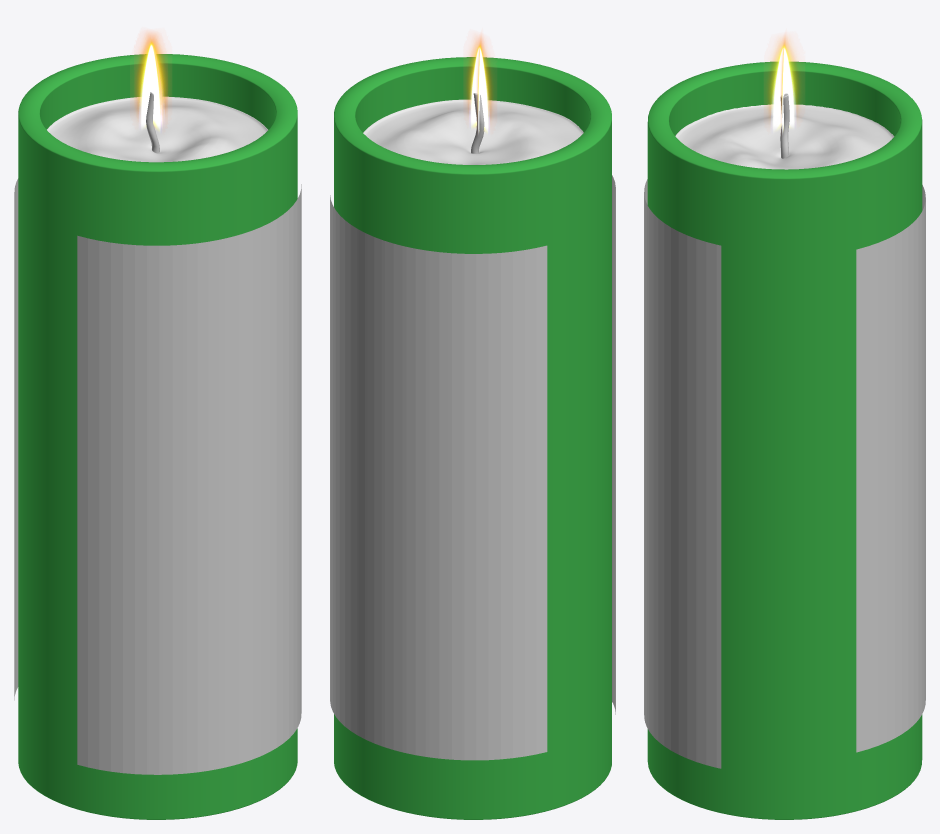
Rendered from singleCandle.glb.
3 views of the same model, side by side, from view 1: azimuth 30°, elevation 25°; view 2: azimuth 150°, elevation 25°; view 3: azimuth 270°, elevation 25° (orthographic).
Parts seen in each view (by area): view 1: Label2, glass, wax, FLAME, Label1; view 2: Label1, glass, wax, Label2, FLAME; view 3: glass, Label2, Label1, wax, FLAME.
Boxes of the visible parts, x1,y1,x2,y2 form: Label2: (77,184,301,774); glass: (18,54,297,819); wax: (47,92,267,162); FLAME: (134,31,169,131); Label1: (14,178,18,700); Label1: (330,195,547,760); glass: (334,57,611,819); wax: (363,93,583,164); Label2: (612,175,615,714); FLAME: (465,34,493,134); glass: (647,61,922,819); Label2: (644,179,721,768); Label1: (856,185,925,752); wax: (675,93,894,169); FLAME: (766,34,800,134).
Size of the model in its own units: 0.7465 by 2.18 by 0.7589.
Materials: 5 (1 with a texture image).
